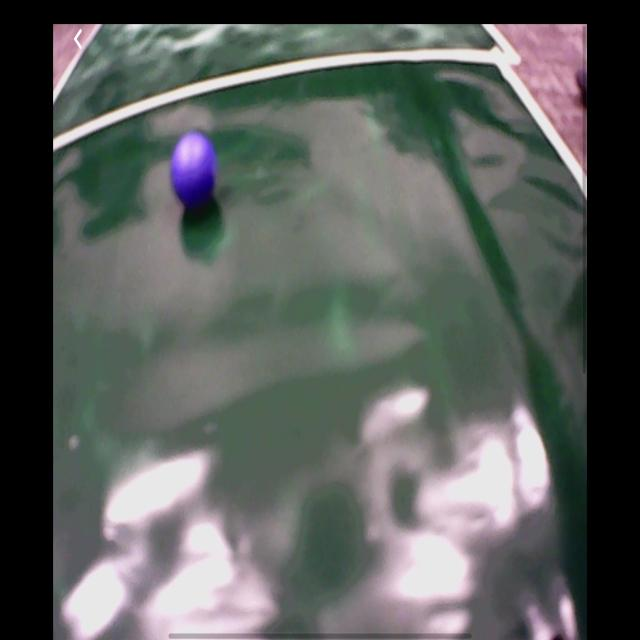ball: (171, 134, 218, 206)
